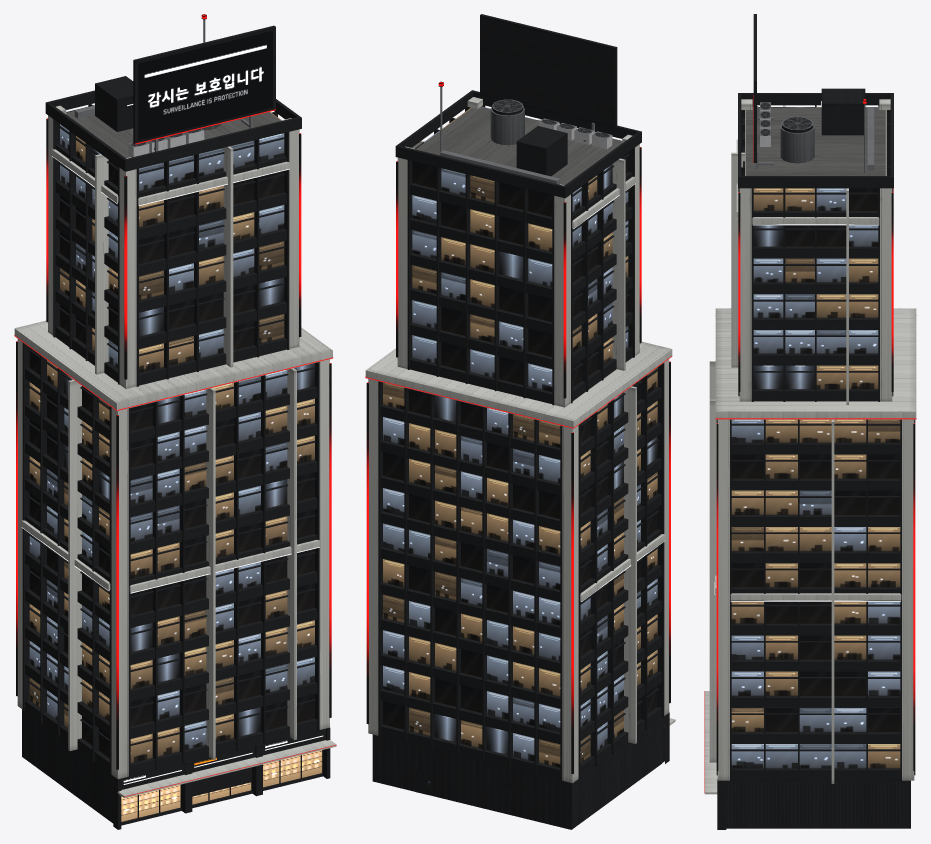
The model's file is SM_INFD_BlockA_2.fbx.
3 renders of one model, left to right at view 1: azimuth 30°, elevation 25°; view 2: azimuth 150°, elevation 25°; view 3: azimuth 270°, elevation 25°, orthographic. The views are drawn at different scales.
Parts seen in each view (by area): view 1: SM_INFD_BlockA_2_LOD0; view 2: SM_INFD_BlockA_2_LOD0; view 3: SM_INFD_BlockA_2_LOD0.
Boxes of the visible parts, <box> form: SM_INFD_BlockA_2_LOD0: <box>14,14,336,829</box>; SM_INFD_BlockA_2_LOD0: <box>365,14,675,829</box>; SM_INFD_BlockA_2_LOD0: <box>704,14,916,829</box>.
Size of what is drawn, in the model's own units: 23.5 by 73.95 by 19.44.
